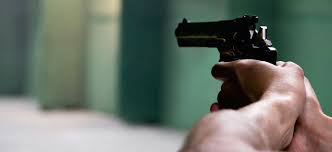gun: (171, 11, 279, 108)
